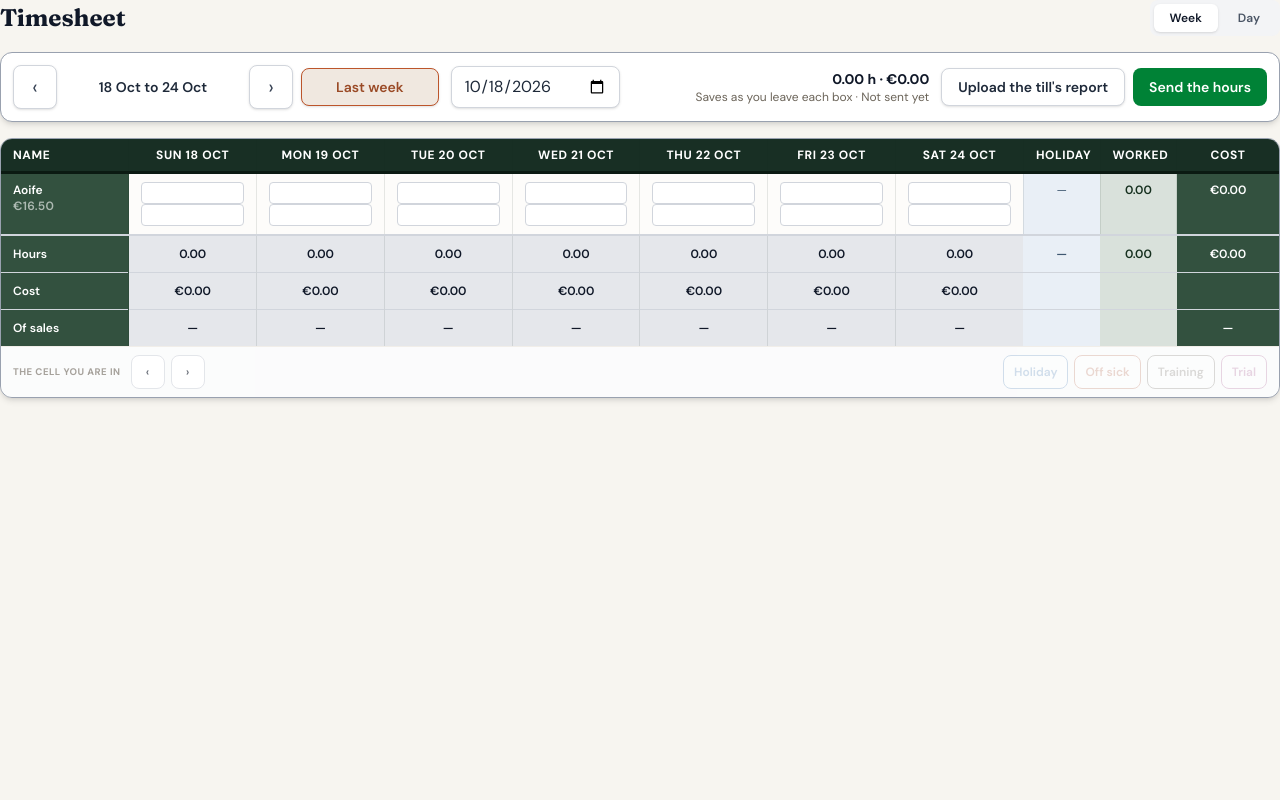
Test: sending the hours › says so when the list was not kept, and puts it back
Click the button "Send the hours".
click(1200, 87)  # box [1133,68,1267,106]
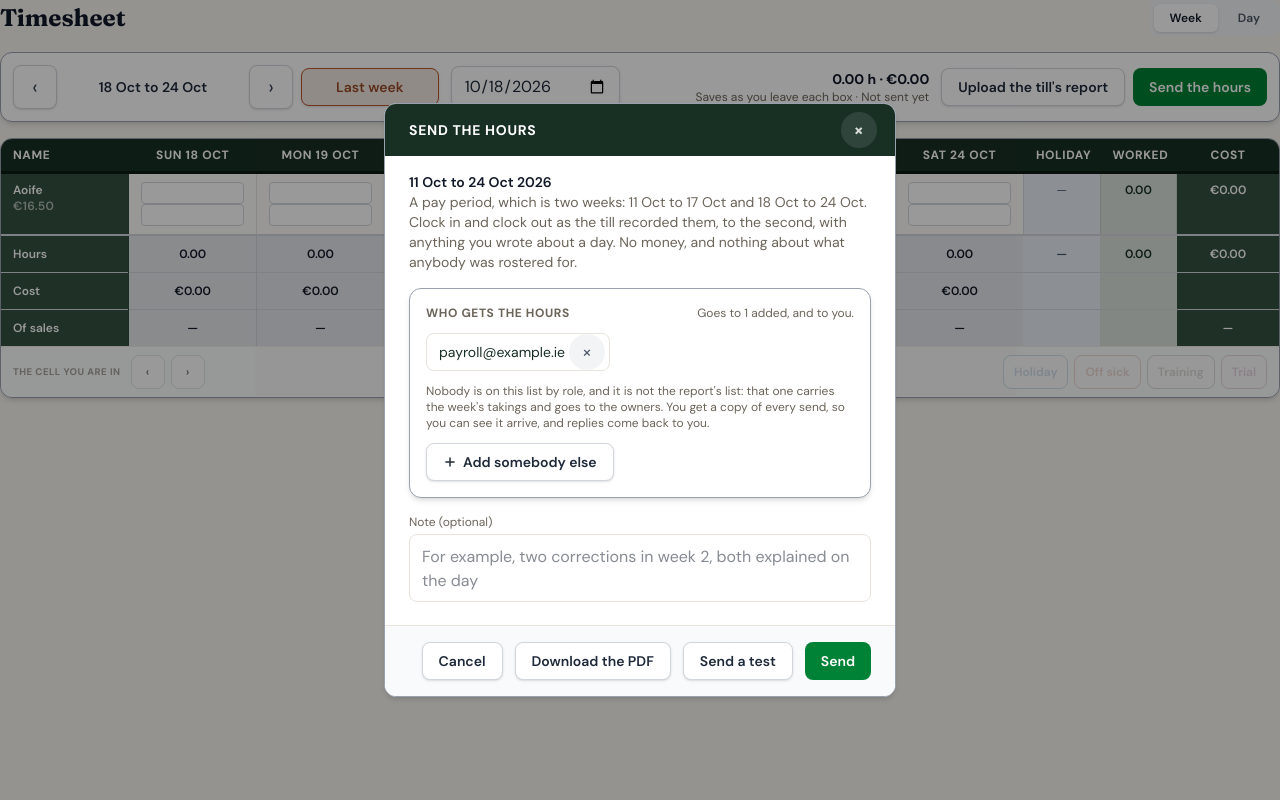
Click the button named "Remove payroll@example.ie from the list".
click(587, 352)  # box [569,334,605,370]
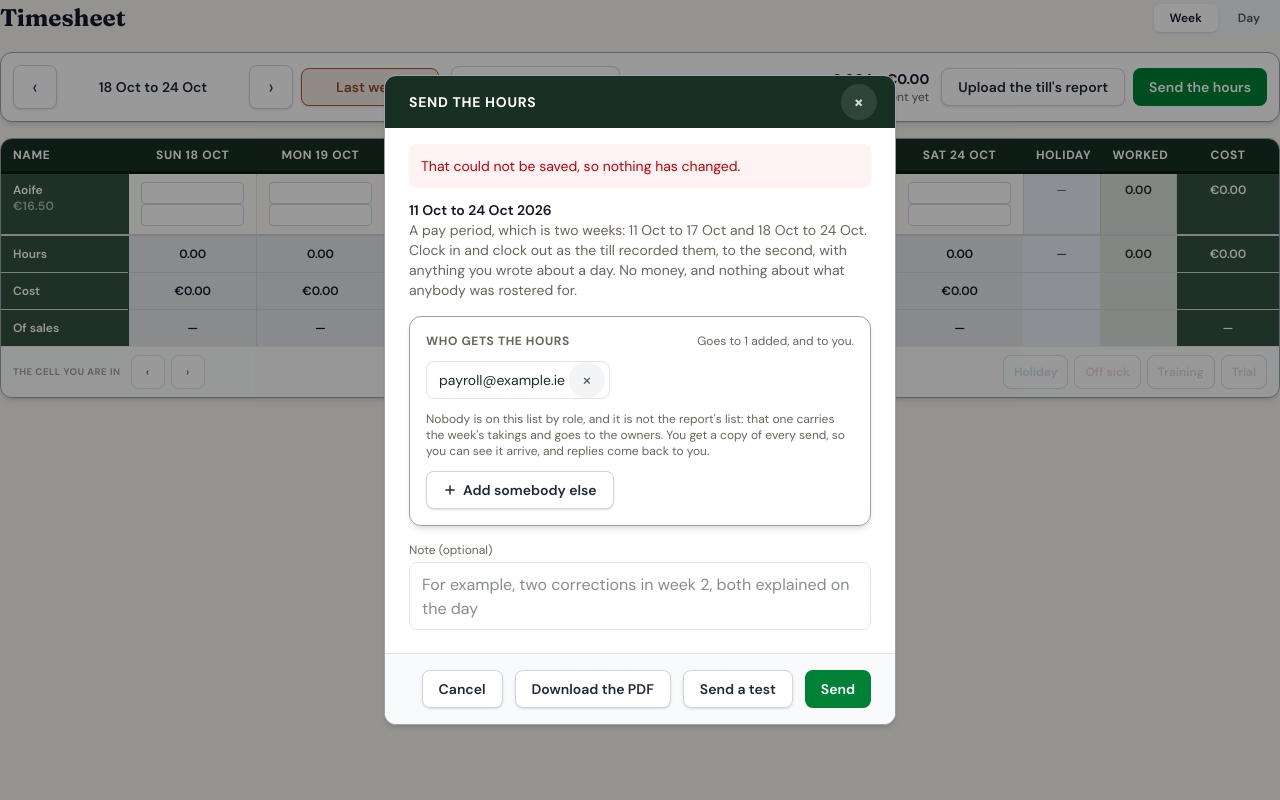
Expected: the text "payroll@example.ie" is shown, [439,370,565,390]
Expected: the text "That could not be saved, so nothing has changed." is shown, [409,144,871,188]
